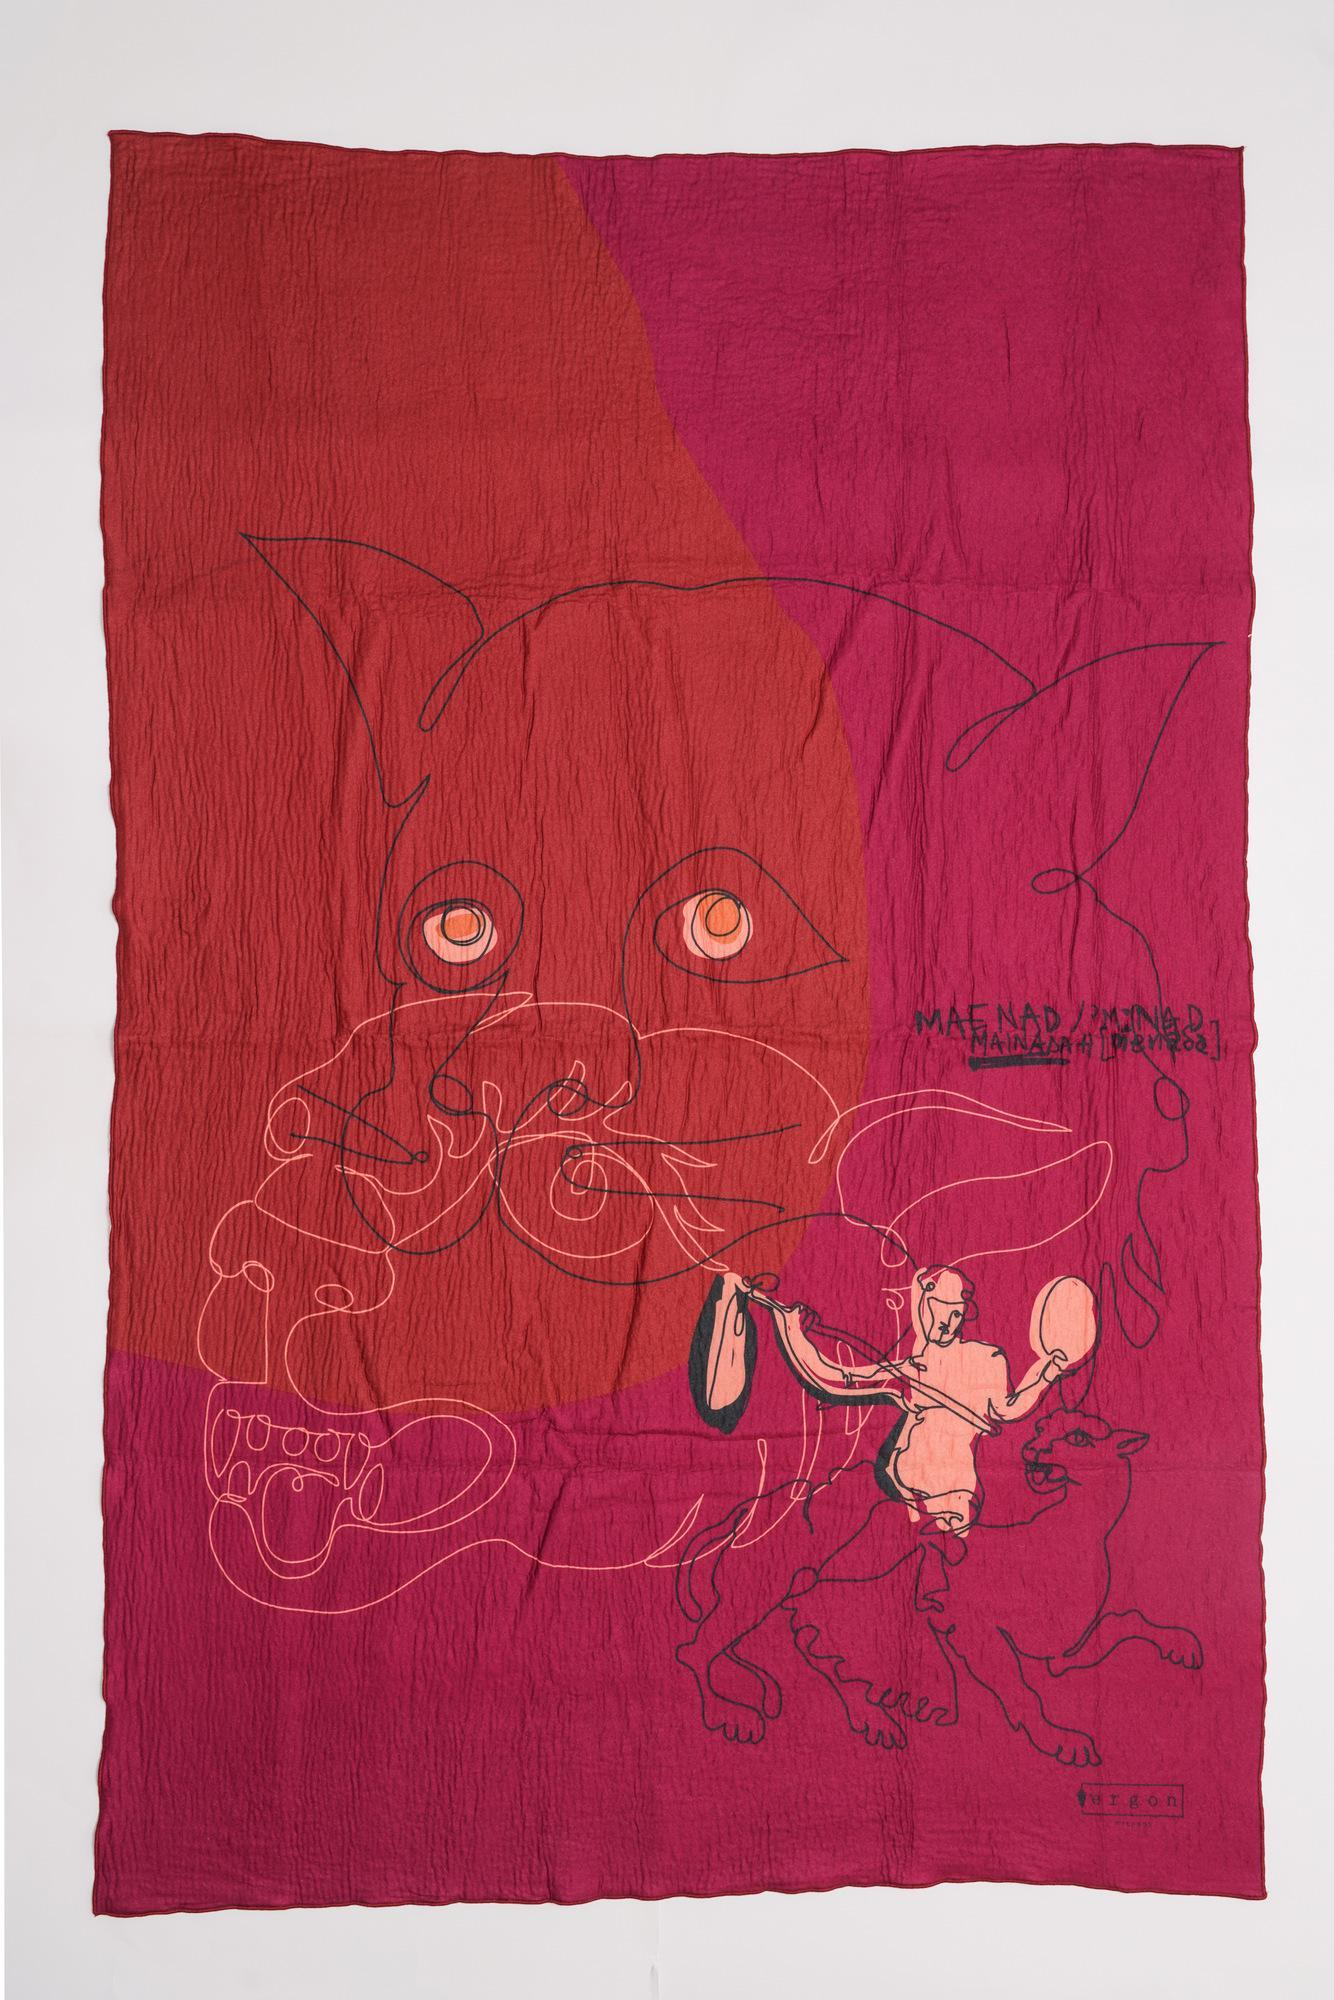towel: (80, 89, 1295, 1926)
